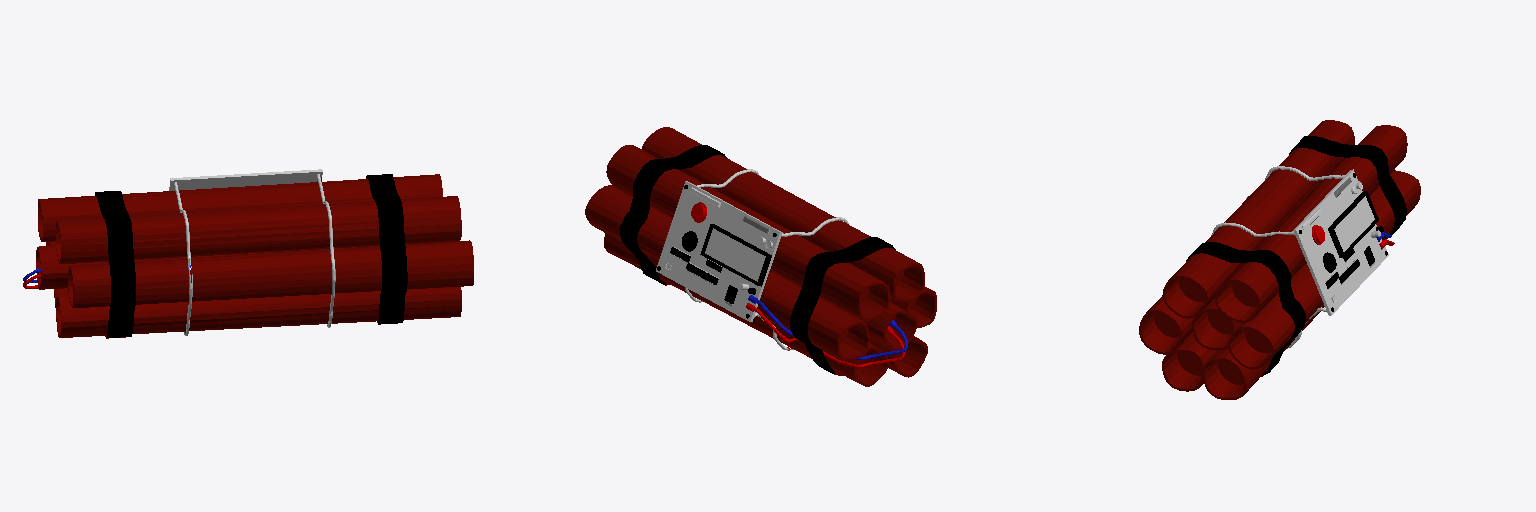
3 views of the same model, side by side, from view 1: azimuth 30°, elevation 25°; view 2: azimuth 150°, elevation 25°; view 3: azimuth 270°, elevation 25° (orthographic).
Parts seen in each view (by area): view 1: polySurface207, pCylinder34; view 2: polySurface207, pCylinder34; view 3: polySurface207, pCylinder34.
Part boxes in pixels (bbox=[...]): polySurface207: bbox=[36, 174, 473, 338]; pCylinder34: bbox=[23, 169, 335, 335]; polySurface207: bbox=[585, 127, 936, 386]; pCylinder34: bbox=[656, 169, 905, 367]; polySurface207: bbox=[1139, 120, 1420, 399]; pCylinder34: bbox=[1211, 166, 1394, 348].
Size of the model in its own units: 85.77 by 27.63 by 56.21.
8 materials, 1 textured.